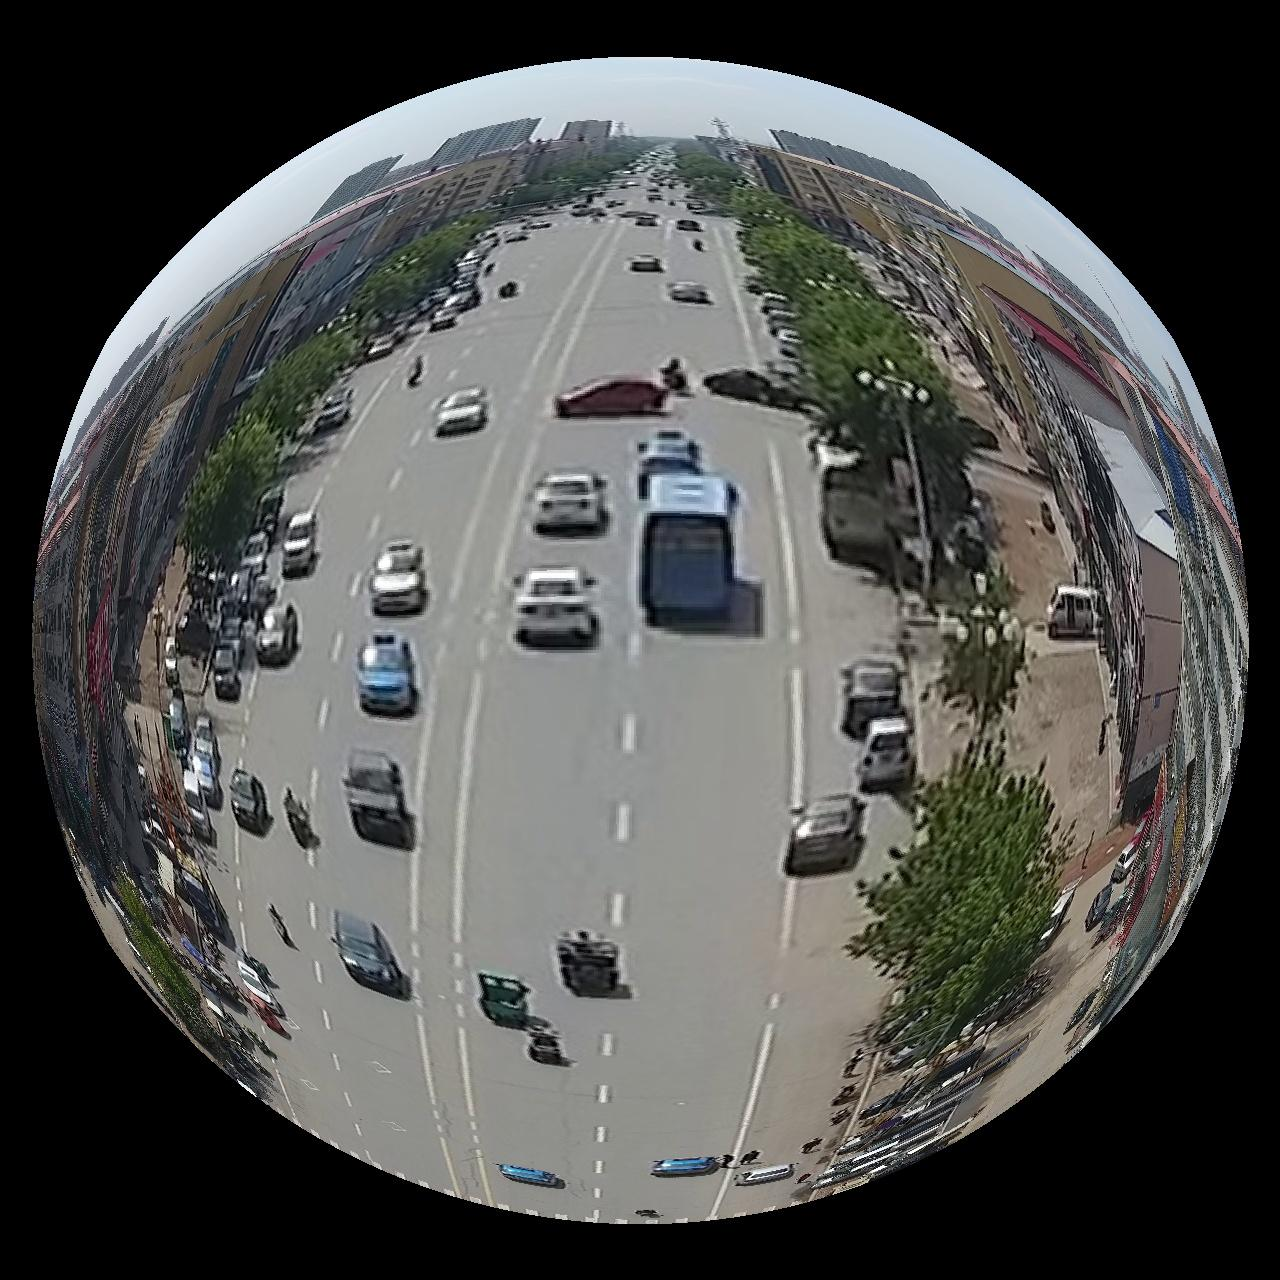cars: (641, 473, 736, 630), (343, 751, 415, 852), (331, 913, 411, 1002), (514, 567, 599, 650), (786, 797, 866, 878), (356, 633, 418, 718), (533, 470, 610, 538), (843, 659, 904, 740), (556, 376, 669, 416), (639, 429, 703, 498), (704, 368, 809, 410), (369, 539, 427, 615), (859, 717, 912, 792), (229, 769, 272, 838), (255, 603, 299, 668), (1049, 586, 1101, 638), (434, 388, 488, 436), (281, 509, 317, 578), (311, 387, 352, 434), (497, 1166, 565, 1190), (652, 1158, 725, 1180), (1113, 836, 1143, 884), (737, 1166, 795, 1188), (669, 281, 713, 304)
trees: (733, 187, 978, 512), (849, 743, 1071, 1066)
